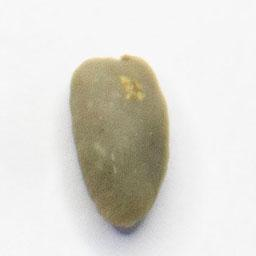peaberry: (65, 49, 174, 233)
